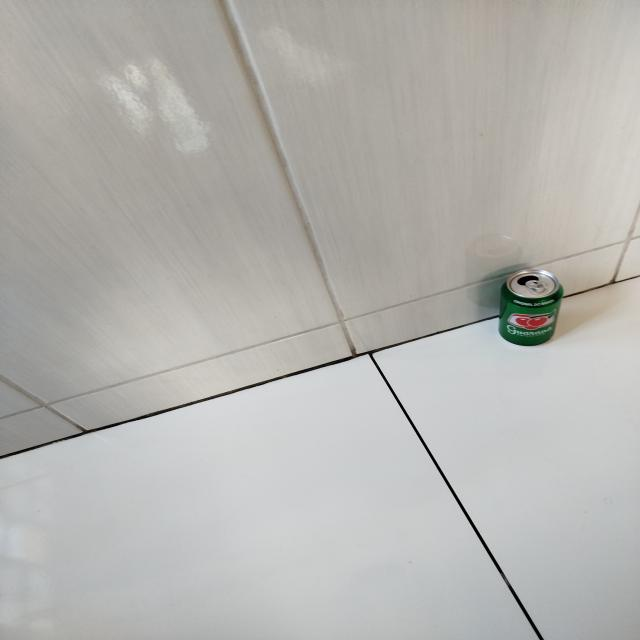Guarana: (497, 267, 565, 346)
